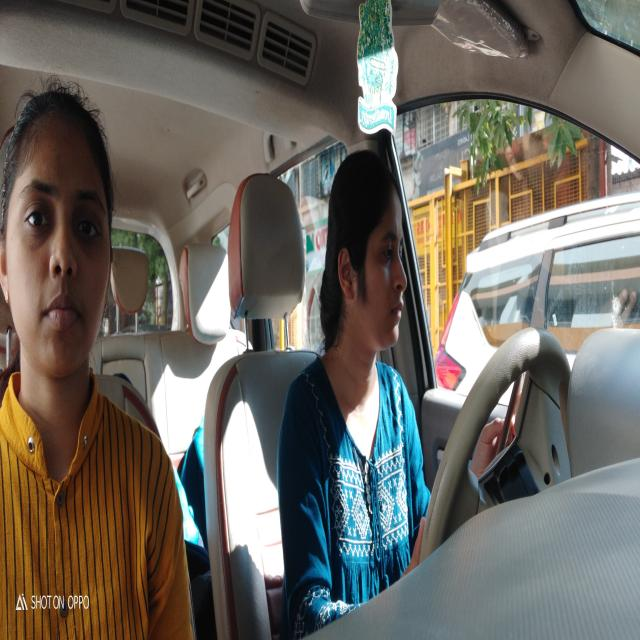mobile: (493, 368, 528, 463)
person: (1, 79, 120, 403), (324, 147, 409, 369)
